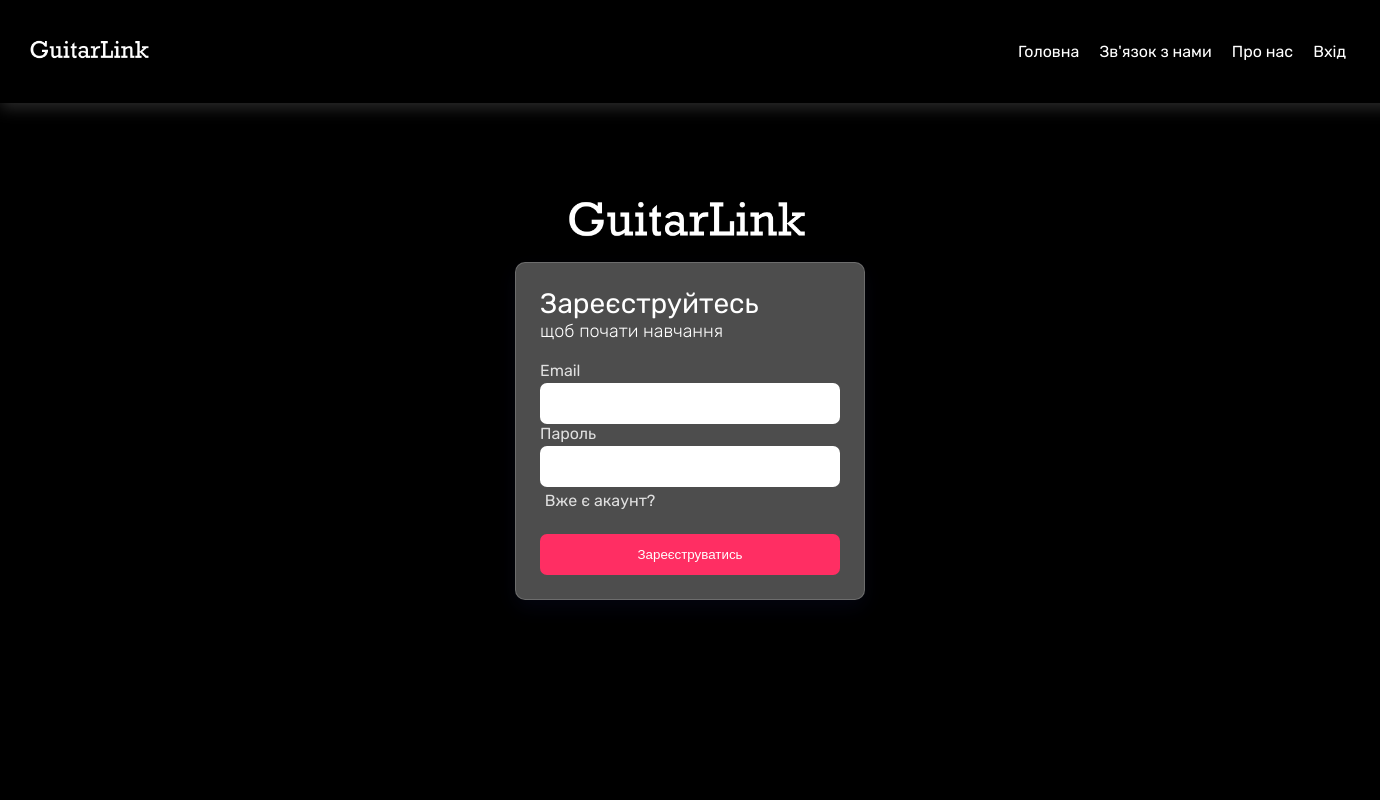
Test case: Register Page › displays the loading text when submitting the form
Step 1. Type "newuser@example.com" into the field with id "email" → (690, 404), box [540,383,840,424]
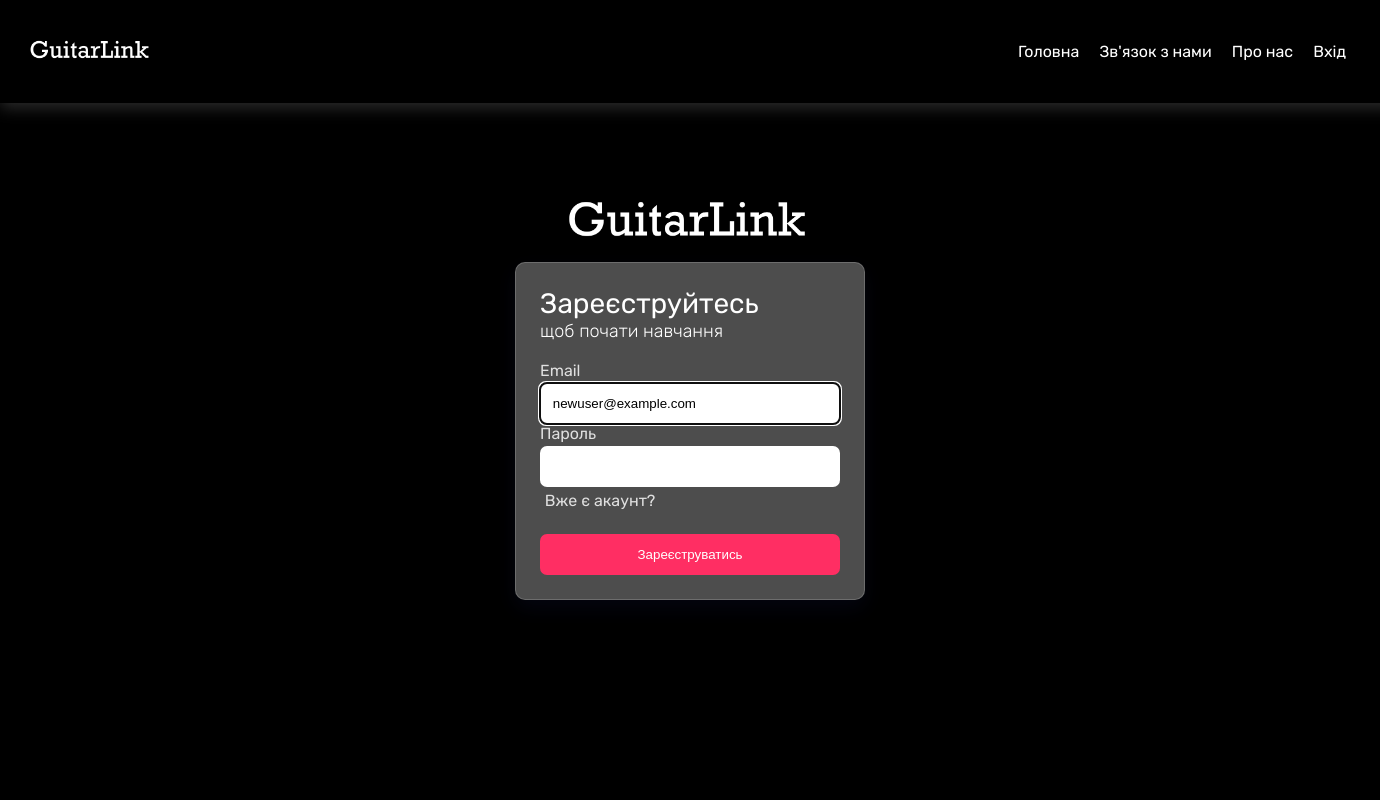
Step 2. Type "newpassword123" into the password field labelled "Пароль" → (690, 467), box [540,446,840,487]
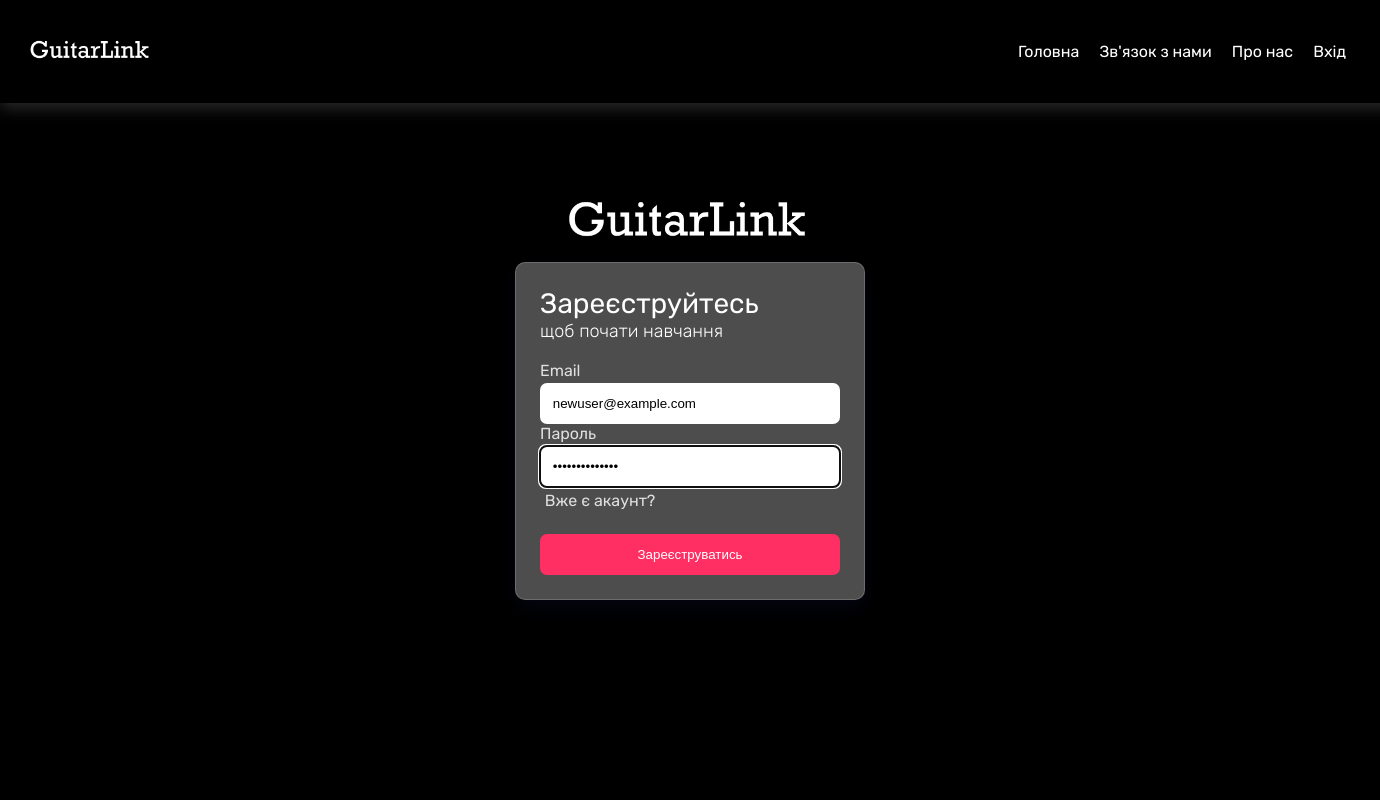
Step 3. Submit the form, box [540,361,840,575]
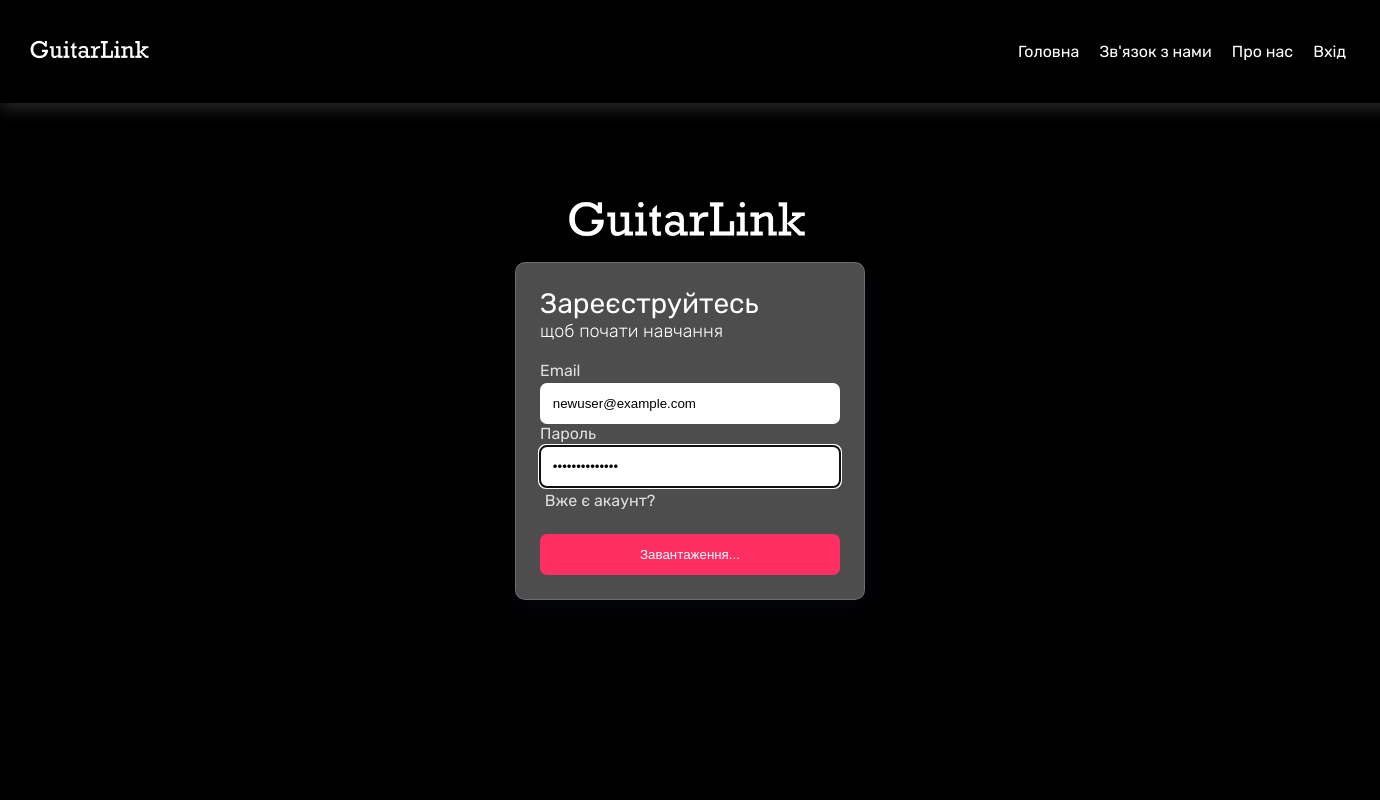
Expected: the button with id "submit" holds "Завантаження...", [540,535,840,576]
